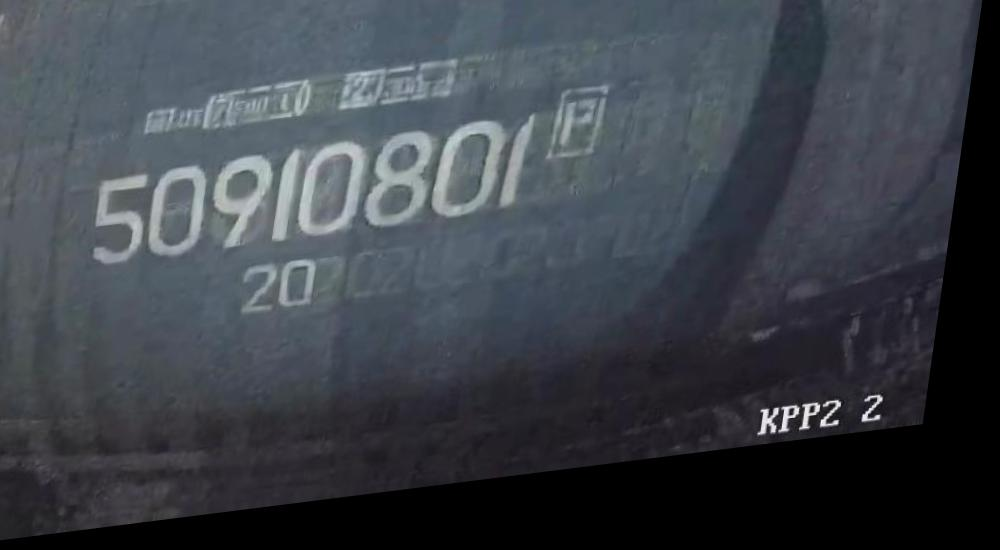Wagon-number: (88, 120, 549, 275)
